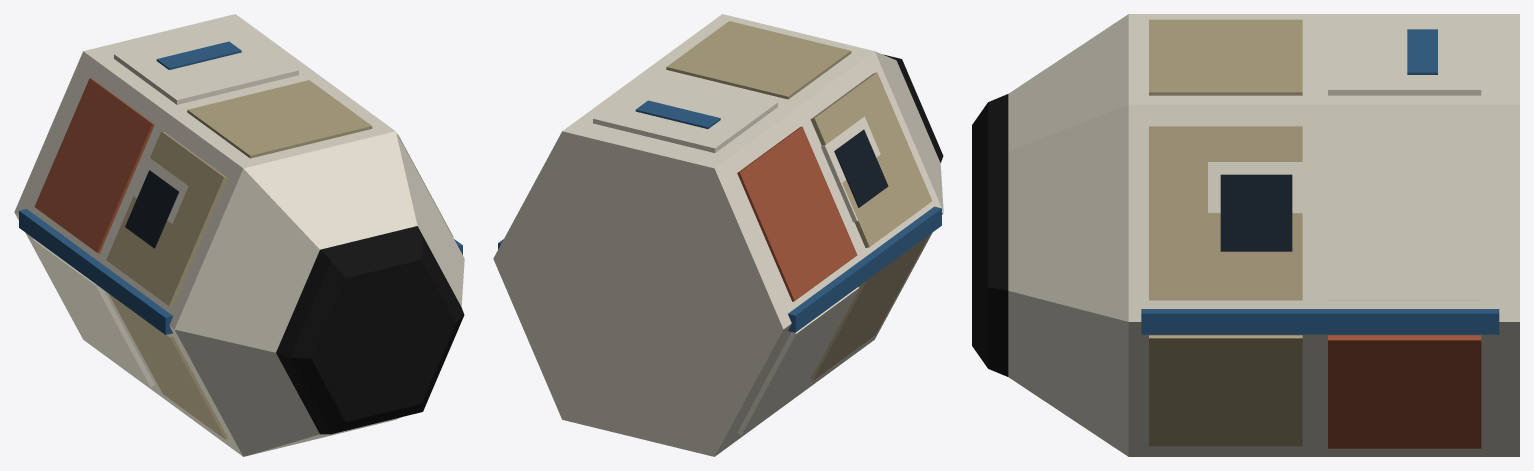
File: pod4_hull.obj
3 views of the same model, side by side, from view 1: azimuth 30°, elevation 25°; view 2: azimuth 150°, elevation 25°; view 3: azimuth 270°, elevation 25° (orthographic). The views are drawn at different scales.
Parts seen in each view (by area): view 1: pod4_hull; view 2: pod4_hull; view 3: pod4_hull.
Part boxes in pixels (bbox=[...]): pod4_hull: bbox=[14, 14, 464, 456]; pod4_hull: bbox=[493, 14, 943, 456]; pod4_hull: bbox=[972, 14, 1519, 456].
Size of the model in its own units: 1.64 by 1.58 by 2.14.
